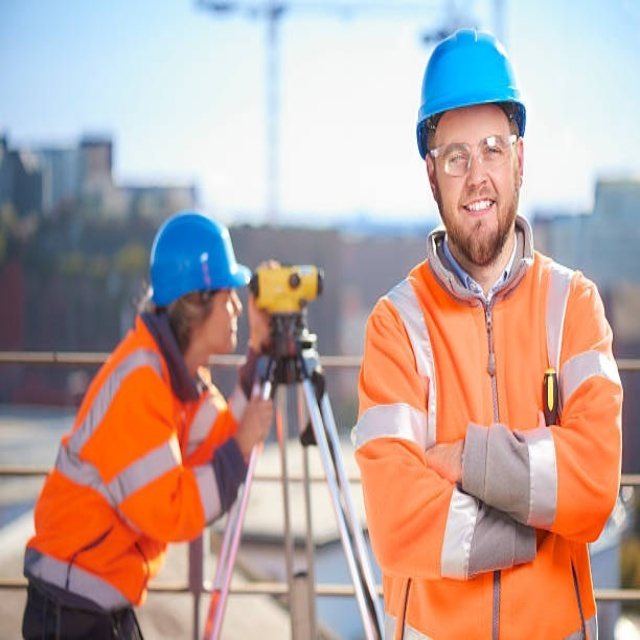Gafas: (428, 134, 517, 177), (218, 290, 242, 318)
Sin_guantes: (235, 389, 277, 453)
Sin_mascara: (458, 187, 500, 242), (218, 312, 245, 347)
